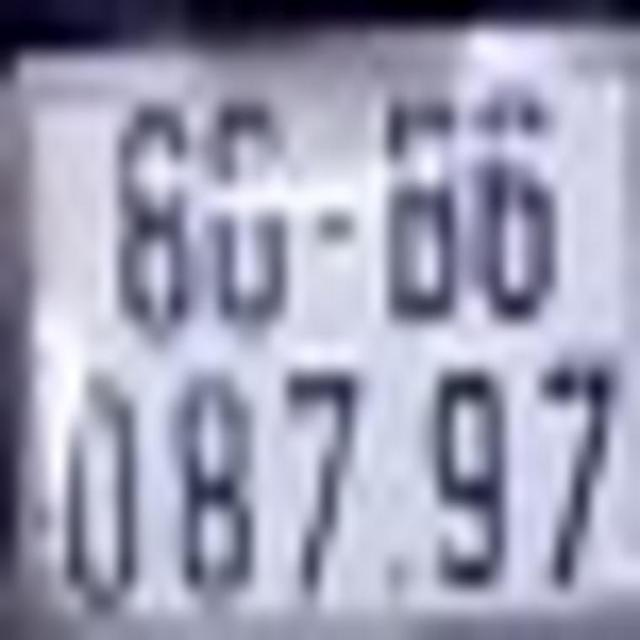0: (52, 366, 142, 614), (208, 100, 295, 326)
6: (470, 88, 558, 324)
7: (527, 356, 620, 596), (272, 362, 350, 591)
8: (166, 370, 261, 592), (114, 96, 200, 340)
9: (425, 361, 515, 594)
B: (374, 82, 462, 320)
